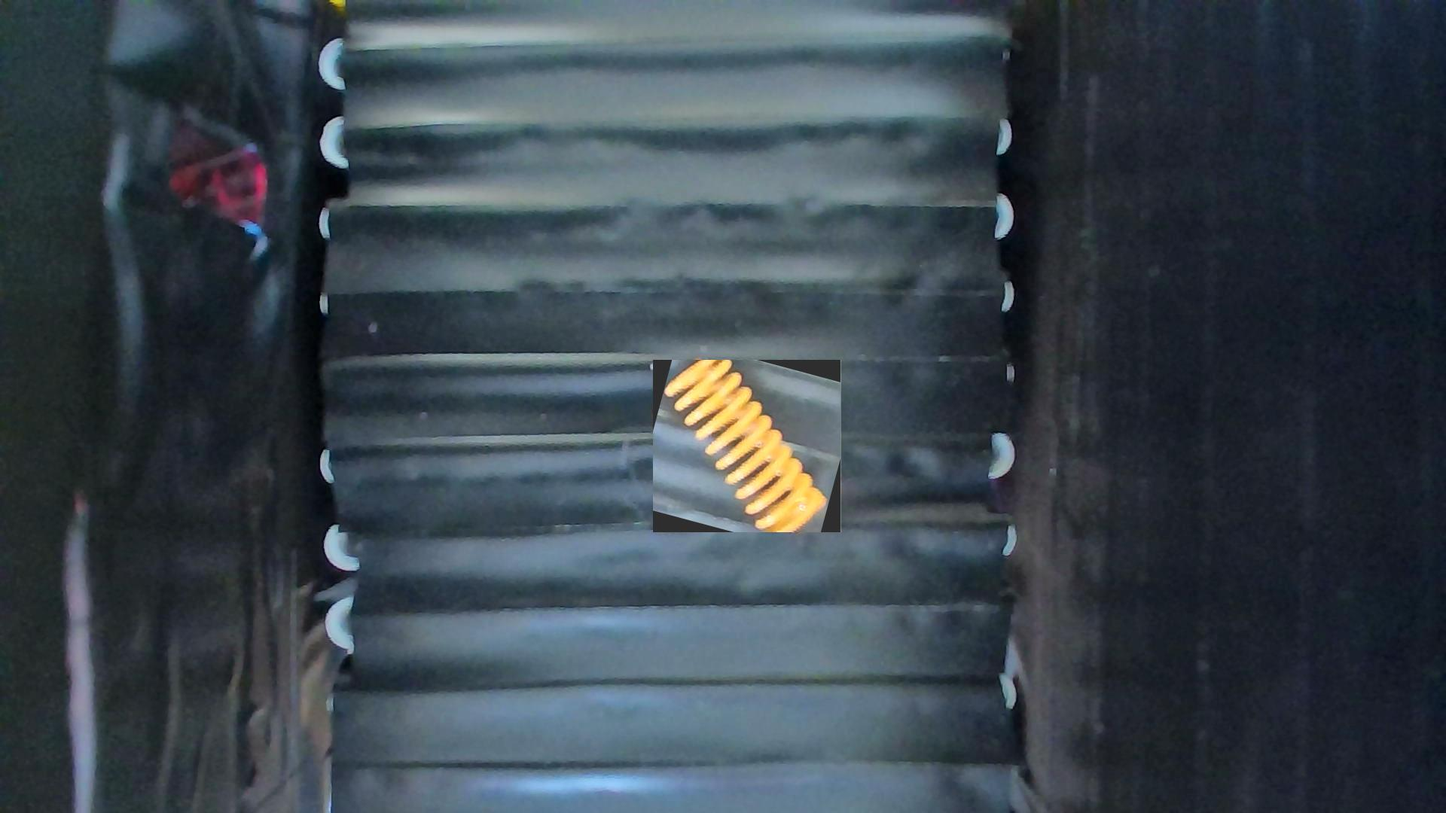spring: (654, 360, 842, 532)
